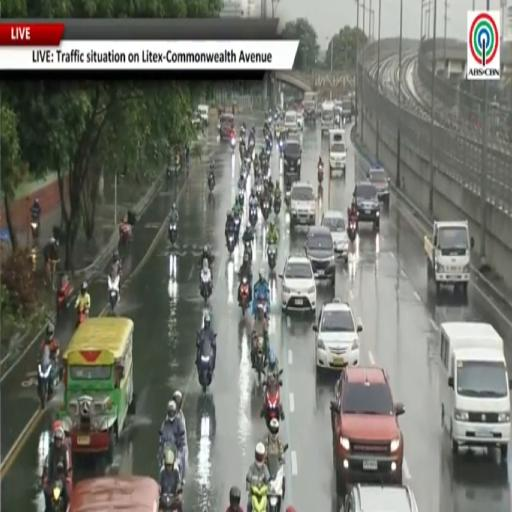car: (330, 366, 404, 494), (313, 299, 362, 370), (280, 256, 316, 312), (343, 485, 419, 511), (305, 227, 335, 287), (321, 211, 349, 262), (354, 182, 380, 230), (290, 182, 315, 227), (368, 166, 389, 205), (283, 137, 302, 179), (284, 110, 297, 132), (197, 105, 209, 126), (286, 133, 301, 147), (297, 112, 303, 131)
jeepney: (60, 317, 134, 458), (68, 476, 159, 511), (219, 115, 234, 139)
motorcycle: (158, 431, 186, 477), (38, 360, 58, 409), (267, 455, 284, 511), (264, 376, 282, 425), (57, 275, 73, 314), (119, 212, 136, 248), (198, 352, 212, 392), (250, 483, 268, 512), (254, 336, 265, 381), (159, 490, 182, 511), (51, 480, 65, 511), (108, 275, 119, 314), (239, 277, 249, 316), (200, 269, 212, 301), (119, 223, 132, 246), (30, 218, 40, 247), (267, 245, 276, 271), (348, 220, 357, 243), (77, 309, 88, 327), (234, 215, 241, 243), (169, 222, 177, 245), (249, 205, 257, 228), (261, 200, 270, 220), (227, 233, 235, 253), (245, 239, 252, 261), (262, 168, 270, 187), (208, 173, 215, 193), (274, 198, 281, 215), (256, 181, 263, 197), (285, 189, 290, 209), (245, 153, 251, 169), (318, 165, 323, 184), (240, 144, 245, 162), (239, 188, 244, 205), (231, 137, 236, 152), (266, 146, 271, 158), (279, 139, 282, 157), (267, 116, 272, 124), (274, 112, 278, 121)
truck: (424, 221, 474, 296), (303, 91, 318, 121)
